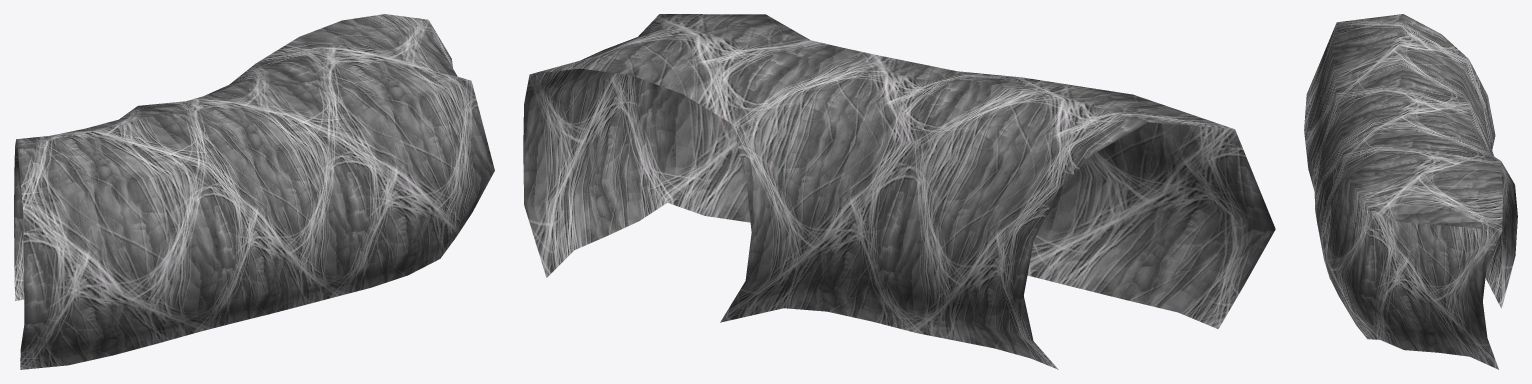
The model's file is SWORDLIGHT20_PS-AREA01_28.fbx.
The picture shows the model from 3 angles, left to right: view 1: azimuth 30°, elevation 25°; view 2: azimuth 150°, elevation 25°; view 3: azimuth 270°, elevation 25°; orthographic projection. The views are drawn at different scales.
Visible parts, largest first — view 1: SWORDLIGHT20_PS-AREA01_28; view 2: SWORDLIGHT20_PS-AREA01_28; view 3: SWORDLIGHT20_PS-AREA01_28.
Part boxes in pixels (x1,y1,x2,y2): SWORDLIGHT20_PS-AREA01_28: [14, 14, 494, 369]; SWORDLIGHT20_PS-AREA01_28: [523, 14, 1275, 369]; SWORDLIGHT20_PS-AREA01_28: [1304, 14, 1517, 369].
Size of the model in its own units: 155906 by 56269 by 64226.
1 material, 1 textured.
